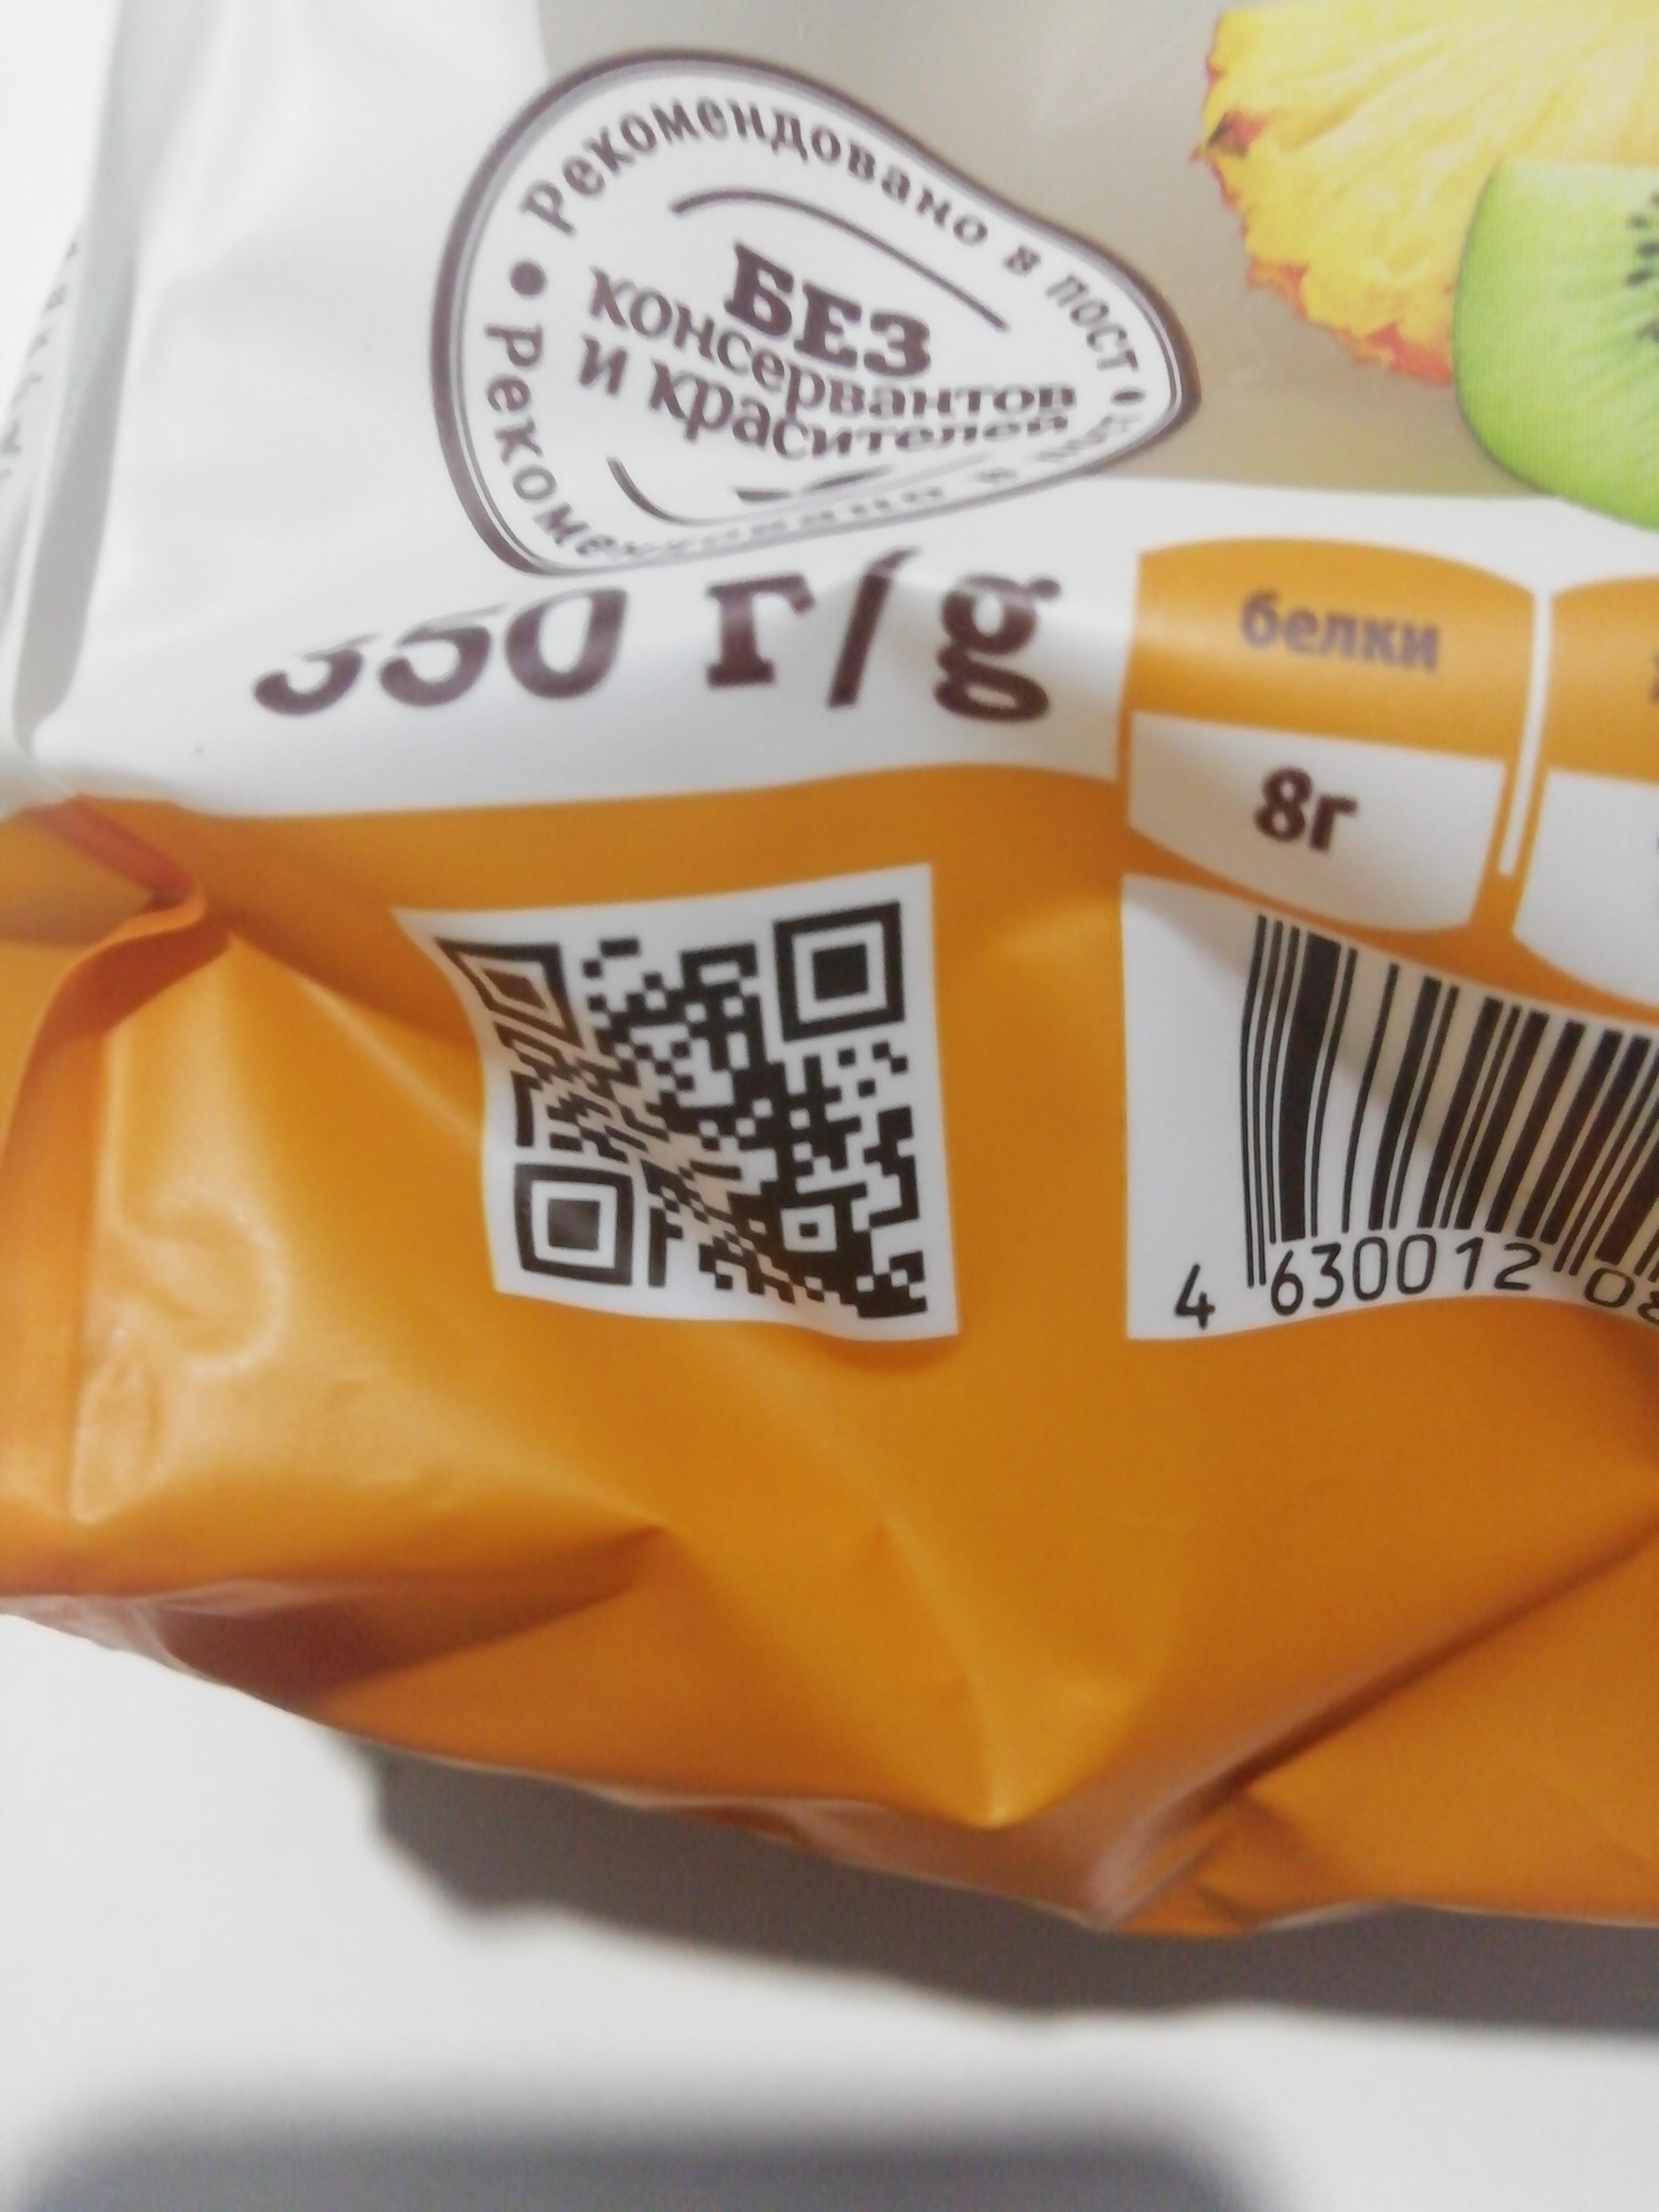qrcode: (430, 902, 934, 1324)
